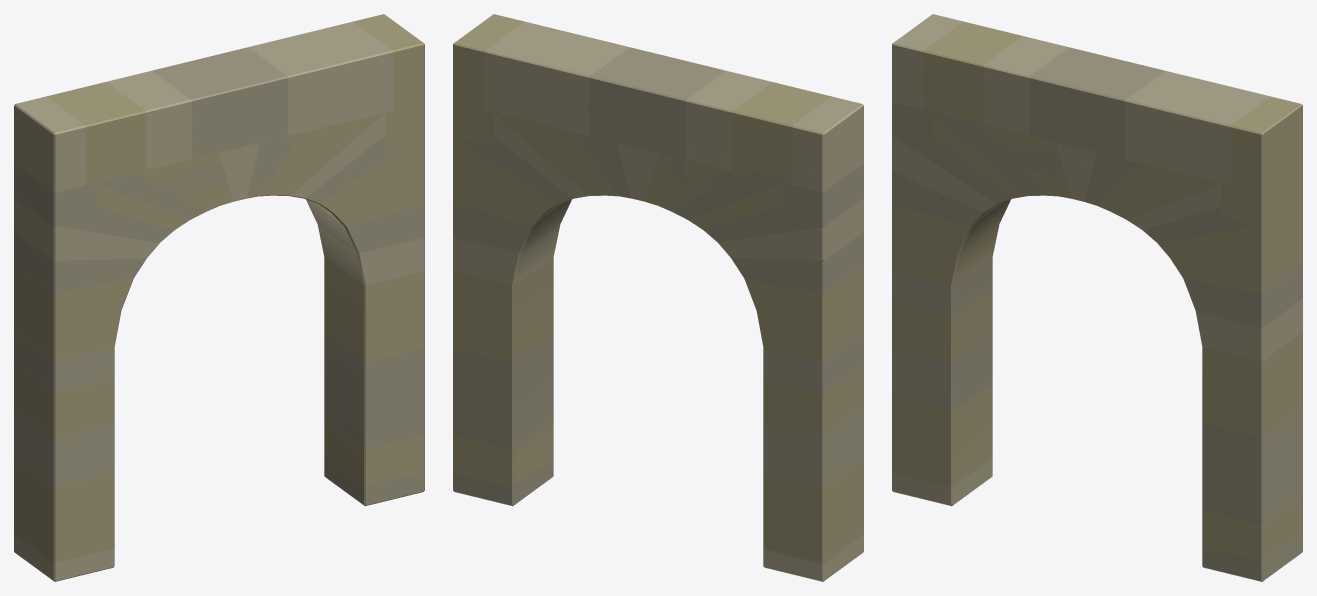
Rendered from Sufetula_BackArch.fbx.
The picture shows the model from 3 angles, left to right: view 1: azimuth 30°, elevation 25°; view 2: azimuth 150°, elevation 25°; view 3: azimuth 330°, elevation 25°; orthographic projection.
Visible parts, largest first — view 1: Arch_Low; view 2: Arch_Low; view 3: Arch_Low.
Part boxes in pixels (x1,y1,x2,y2): Arch_Low: [14, 14, 424, 581]; Arch_Low: [453, 14, 863, 581]; Arch_Low: [892, 14, 1302, 581].
Size of the model in its own units: 450 by 520 by 86.
